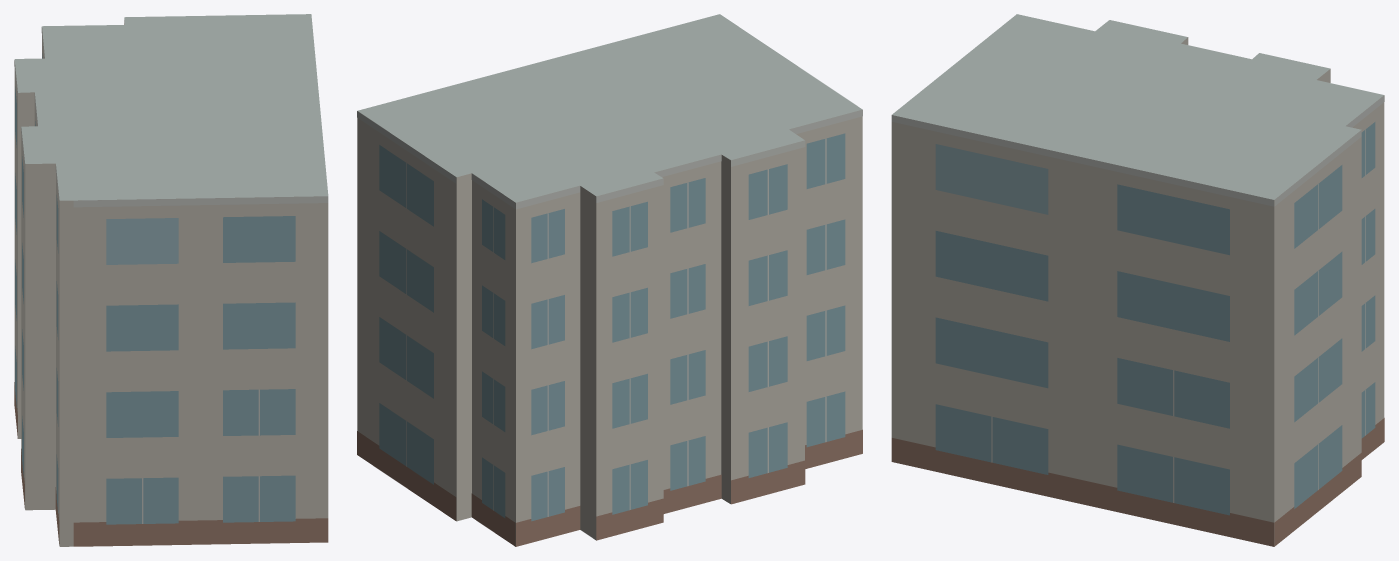
The model's file is survey-upis-32612867.glb.
3 views of the same model, side by side, from view 1: azimuth 30°, elevation 25°; view 2: azimuth 150°, elevation 25°; view 3: azimuth 270°, elevation 25° (orthographic).
Visible parts, largest first — view 1: survey-upis-32612867.tmp; view 2: survey-upis-32612867.tmp; view 3: survey-upis-32612867.tmp.
Boxes of the visible parts, x1,y1,x2,y2 form: survey-upis-32612867.tmp: [14, 14, 328, 546]; survey-upis-32612867.tmp: [357, 14, 862, 546]; survey-upis-32612867.tmp: [891, 14, 1384, 546].
Size of the model in its own units: 14.33 by 12.46 by 16.05.
